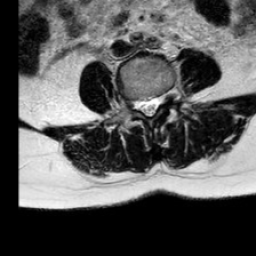CCS_normal: (145, 86, 152, 123)
LFS_normal: (160, 80, 169, 109)
LLS_normal: (152, 86, 160, 118)
RFS_normal: (129, 88, 137, 118)
RLS_normal: (137, 88, 145, 119)
